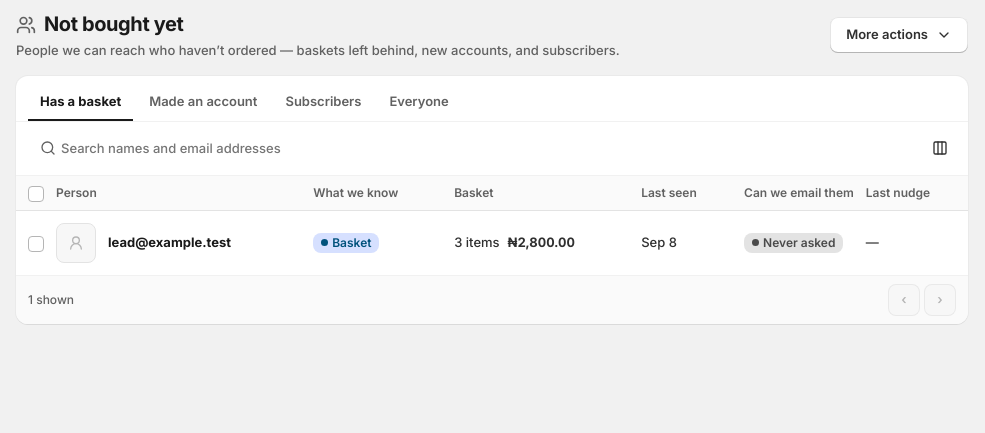
Test: the not-bought-yet list › names the population a tab found nothing in
Expected: the text "lead@example.test" is shown, [108,233,231,252]
Click the tab "Made an account".
click(203, 102)  # box [137,84,270,121]
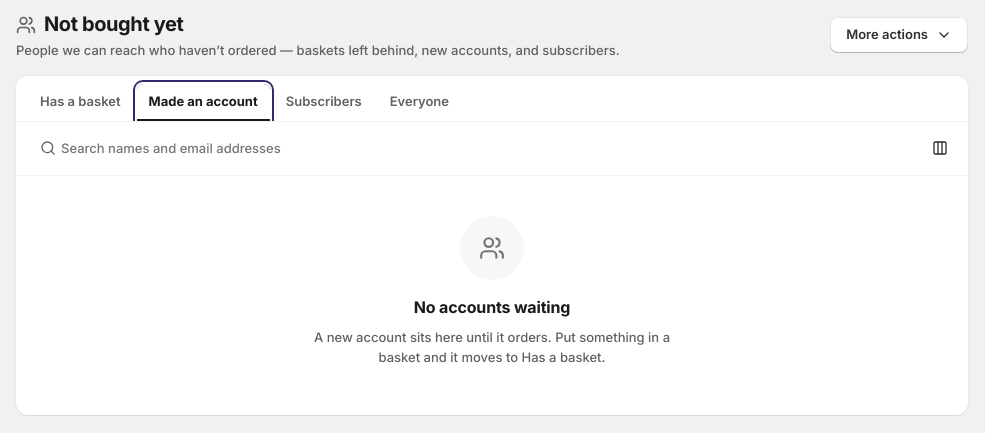
Expected: the heading "No accounts waiting" is shown, [414,296,570,319]
Expected: the text "moves to Has a basket" is shown, [314,329,670,365]
